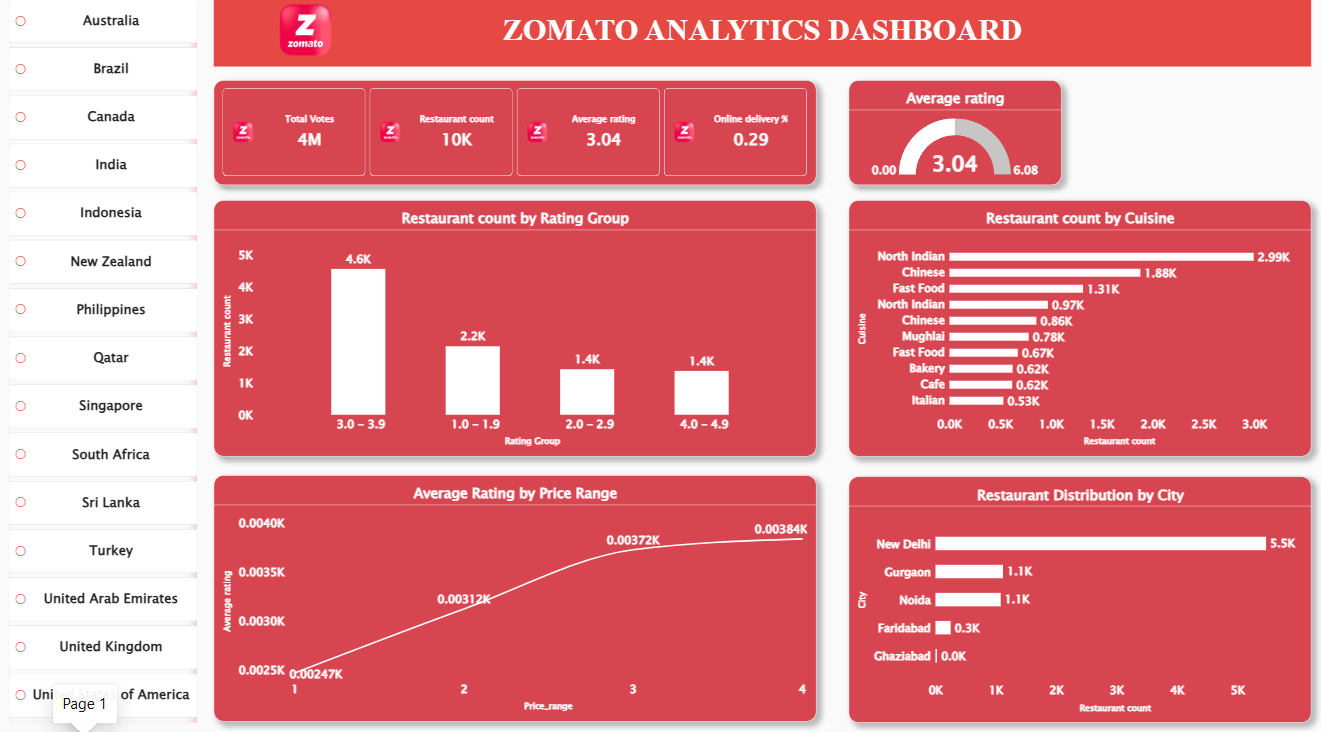

This screenshot's page, from the dashboard's own definition file:
{"tool":"powerbi","page":{"name":"Page 1","canvas":[2560,1440],"ordinal":0},"visuals":[{"type":"textbox","box":[422.3,0,2118.5,139.9],"z":0},{"type":"image","box":[513.9,9.7,170.1,119.4],"z":1000},{"type":"advancedSlicerVisual","fields":{"Values":["country table.country name"]},"box":[26.5,9.7,364.3,1397.1],"z":2000},{"type":"clusteredBarChart","title":"Restaurant Distribution by City","fields":{"Category":["Main Table.City"],"Y":["Measure table.Restaurant count"]},"box":[1648,931.4,892.8,475.3],"z":3000},{"type":"cardVisual","fields":{"Data":["Measure table.Total Votes","Measure table.Restaurant count","Measure table.Average rating","Measure table.Online delivery %"]},"box":[422.3,166.5,1163,202.7],"z":4000},{"type":"columnChart","fields":{"Category":["Main Table.Rating Group"],"Y":["Measure table.Restaurant count"]},"box":[422.3,398.1,1163,494.6],"z":5000},{"type":"clusteredBarChart","fields":{"Category":["Main Table.Cuisine"],"Y":["Measure table.Restaurant count"]},"box":[1648,398.1,892.8,494.6],"z":6000},{"type":"lineChart","title":"Average Rating by Price Range","fields":{"Category":["Main Table.Price_range"],"Y":["Measure table.Average rating"]},"box":[422.3,929,1163,475.3],"z":7000},{"type":"gauge","fields":{"Y":["Measure table.Average rating"]},"box":[1648,166.5,892.8,202.7],"z":7001}]}

Visuals, with their boxes in screenshot pixels (x1, y1, x2, y2):
textbox: BBox(209, 0, 1312, 62)
image: BBox(257, 0, 346, 57)
advancedSlicerVisual - country table.country name: BBox(3, 0, 193, 722)
"Restaurant Distribution by City" clusteredBarChart: BBox(847, 474, 1312, 722)
cardVisual - Measure table.Total Votes x Measure table.Restaurant count: BBox(209, 76, 814, 182)
columnChart - Main Table.Rating Group x Measure table.Restaurant count: BBox(209, 197, 814, 454)
clusteredBarChart - Main Table.Cuisine x Measure table.Restaurant count: BBox(847, 197, 1312, 454)
"Average Rating by Price Range" lineChart: BBox(209, 473, 814, 720)
gauge - Measure table.Average rating: BBox(847, 76, 1312, 182)
